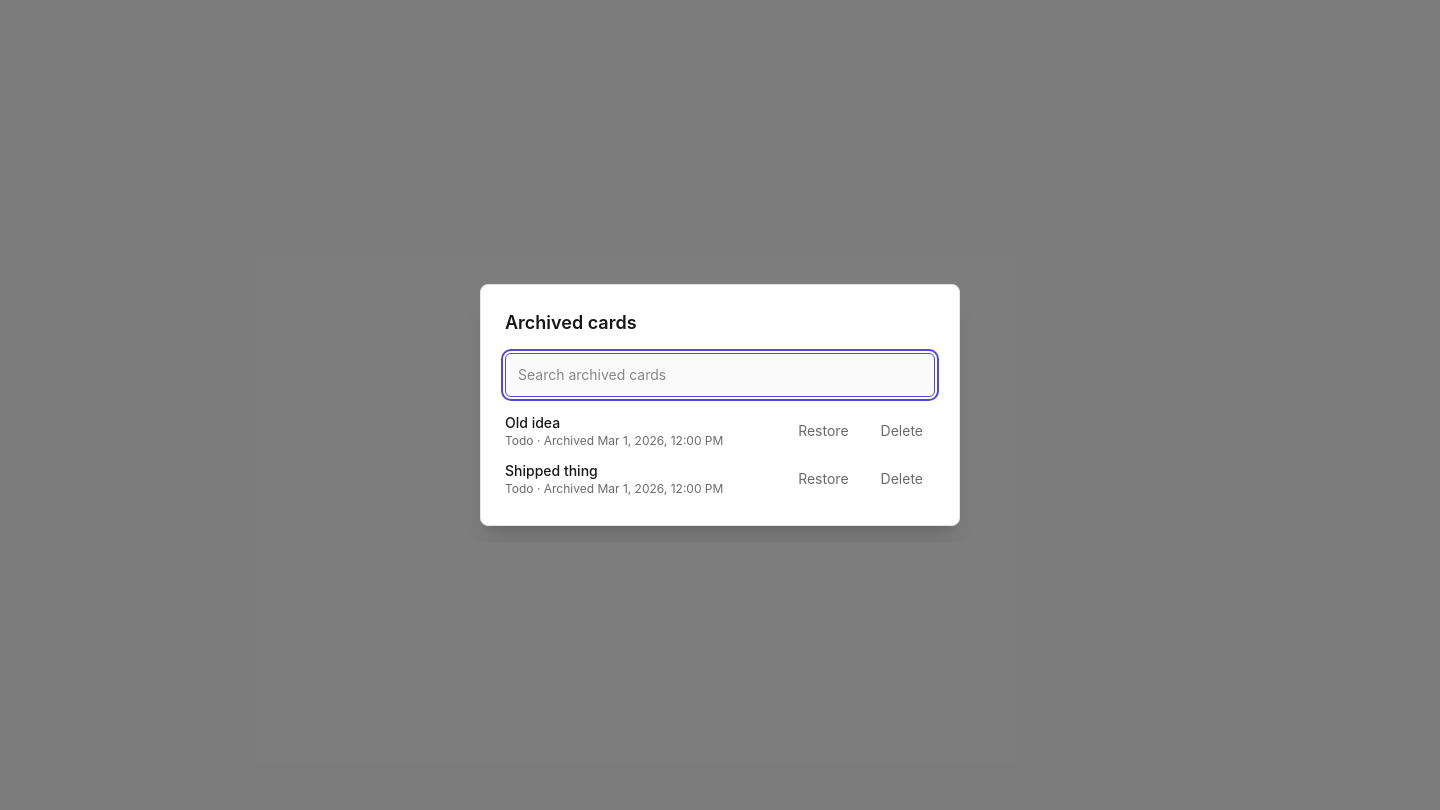
it: ArchivedTasksModal › disarms a card whose delete was armed when another card is armed instead
The width and height of the screenshot is (1440, 810).
Expected: the text "Old idea" is shown, [505,414,560,431]
Click the button with aria-label "Delete card Old idea": (902, 431) [869,409,935,453]
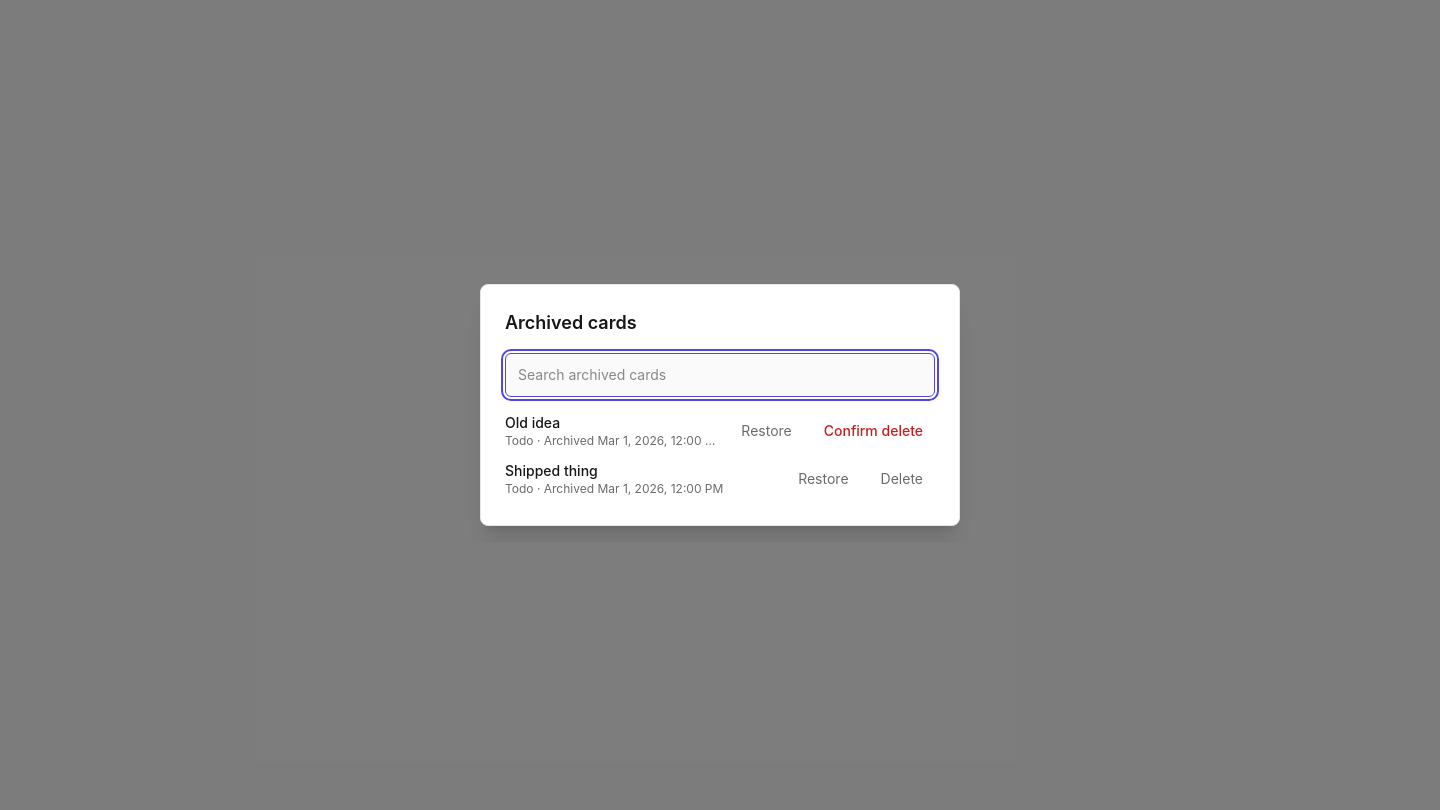
Click the button with aria-label "Delete card Shipped thing": (902, 479) [869,457,935,501]
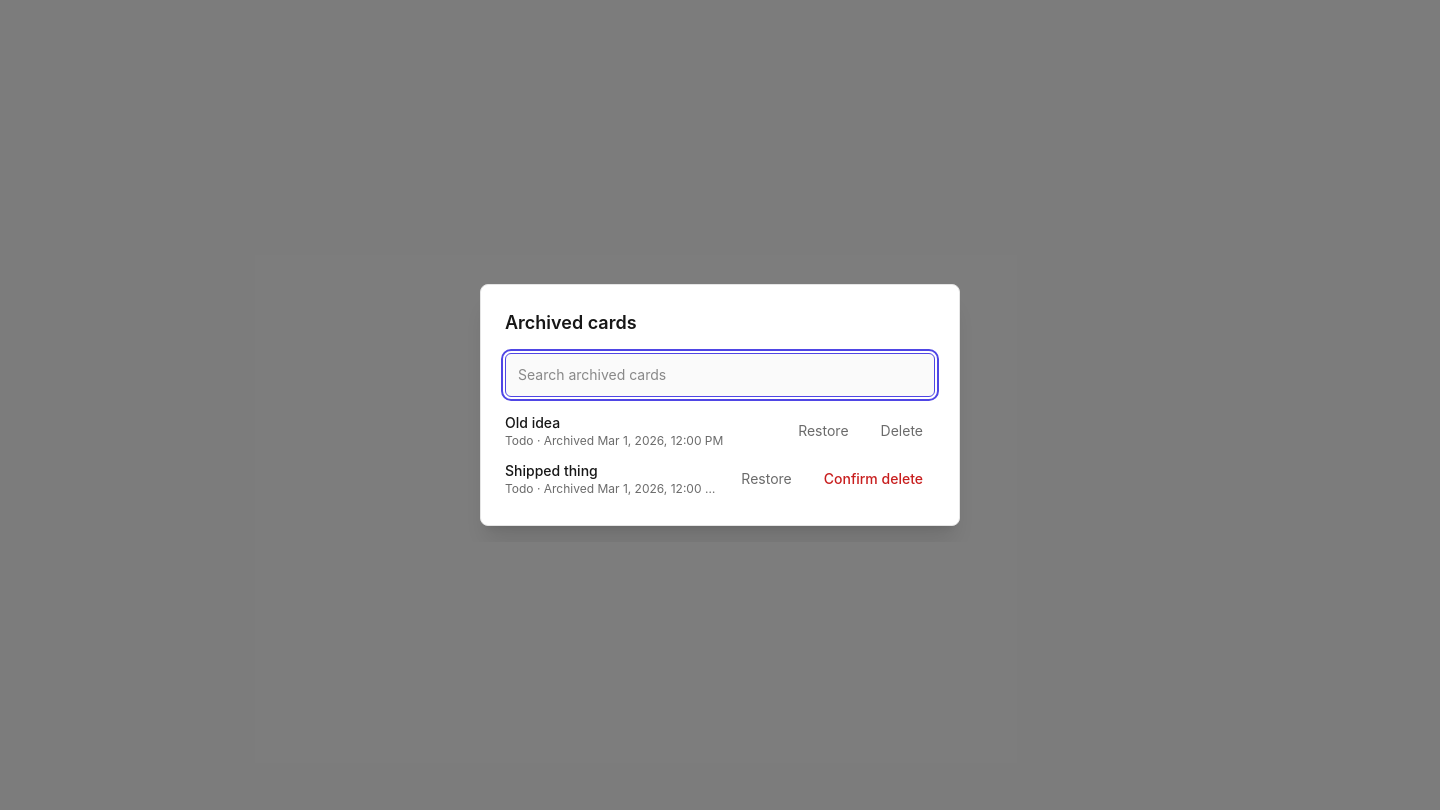
Now the button with aria-label "Delete card Old idea" is shown, box [869,409,935,453]
Now the button with aria-label "Confirm delete of card Shipped thing" is shown, box [812,457,935,501]
